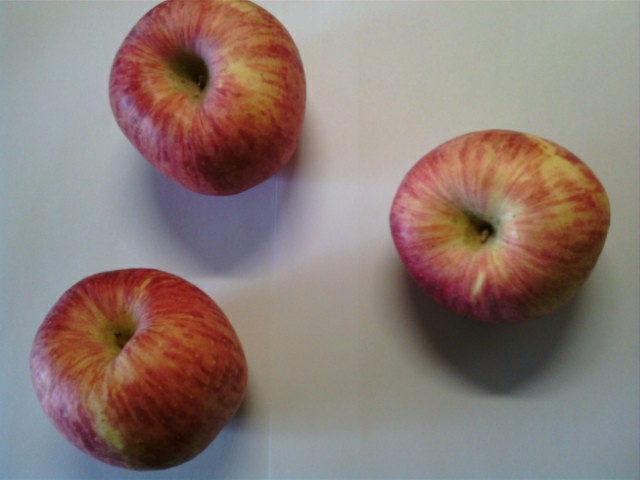normal_apple: (30, 267, 251, 473), (389, 131, 612, 320), (109, 1, 308, 196)
